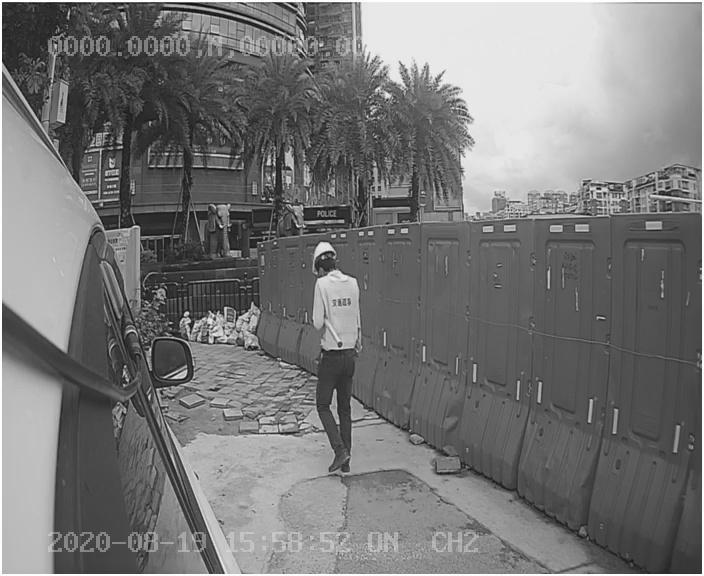person: (296, 241, 382, 483)
